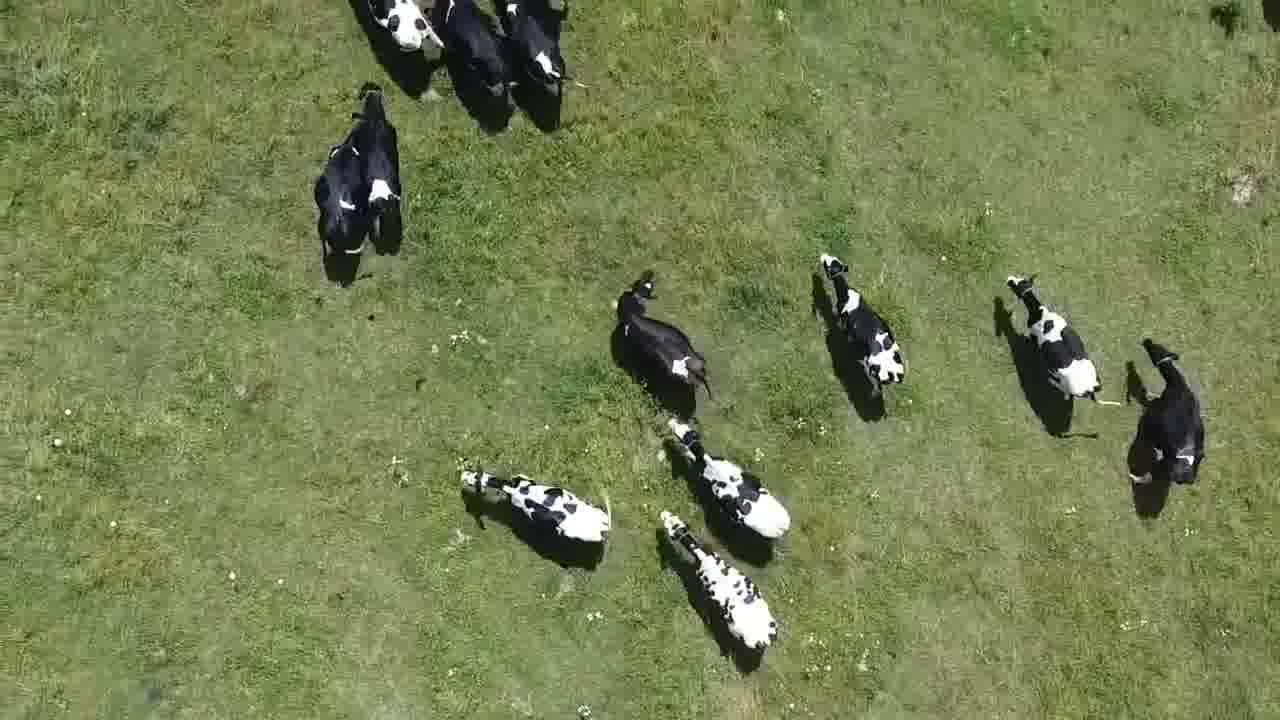cow: (660, 507, 781, 658), (667, 417, 798, 544), (1001, 267, 1112, 409), (452, 460, 616, 554), (818, 250, 907, 399), (1124, 337, 1210, 491), (615, 275, 719, 402), (351, 84, 407, 251), (440, 0, 520, 113), (308, 129, 366, 263), (497, 0, 575, 96), (363, 0, 444, 65)
